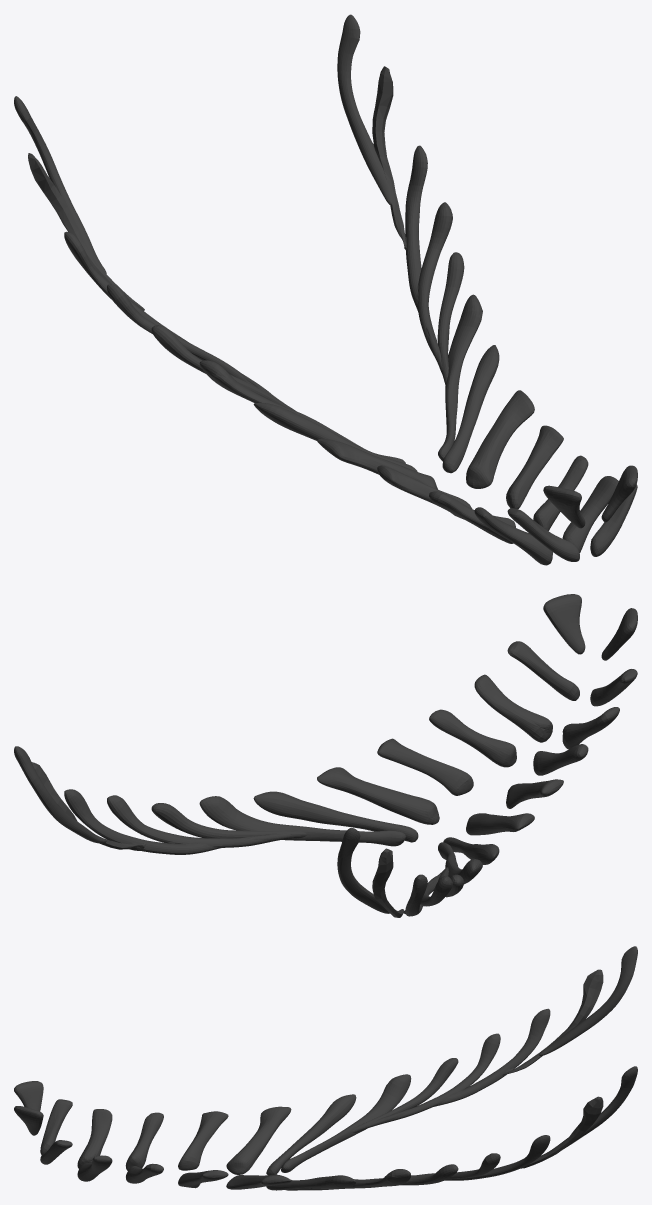
Rendered from b_cartilage_costal_LO.glb.
3 views of the same model, one above another, from view 1: azimuth 30°, elevation 25°; view 2: azimuth 150°, elevation 25°; view 3: azimuth 270°, elevation 25° (orthographic). The views are drawn at different scales.
Visible parts, largest first — view 1: b_cartilage_costal_LO; view 2: b_cartilage_costal_LO; view 3: b_cartilage_costal_LO.
Part boxes in pixels (x1,y1,x2,y2): b_cartilage_costal_LO: (14,14,637,565); b_cartilage_costal_LO: (14,594,637,917); b_cartilage_costal_LO: (14,946,637,1190).
Size of the model in its own units: 0.00488 by 0.00309 by 0.00994.
1 material, 1 textured.
